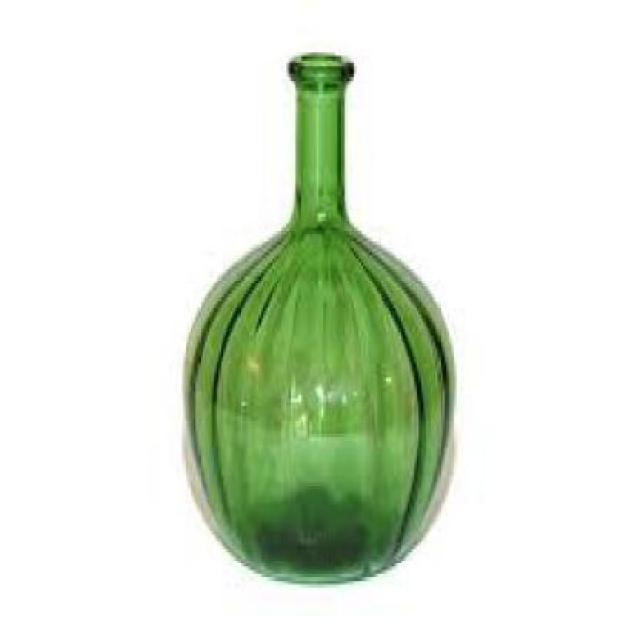kaca: (181, 52, 454, 577)
